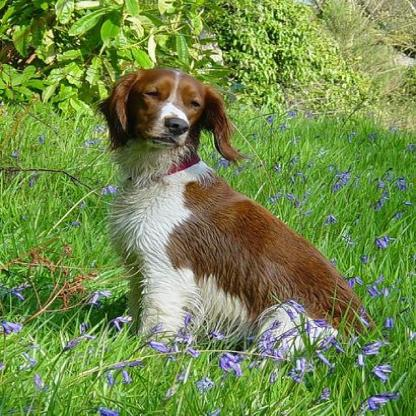Welsh_springer_spaniel: (93, 62, 380, 366)
